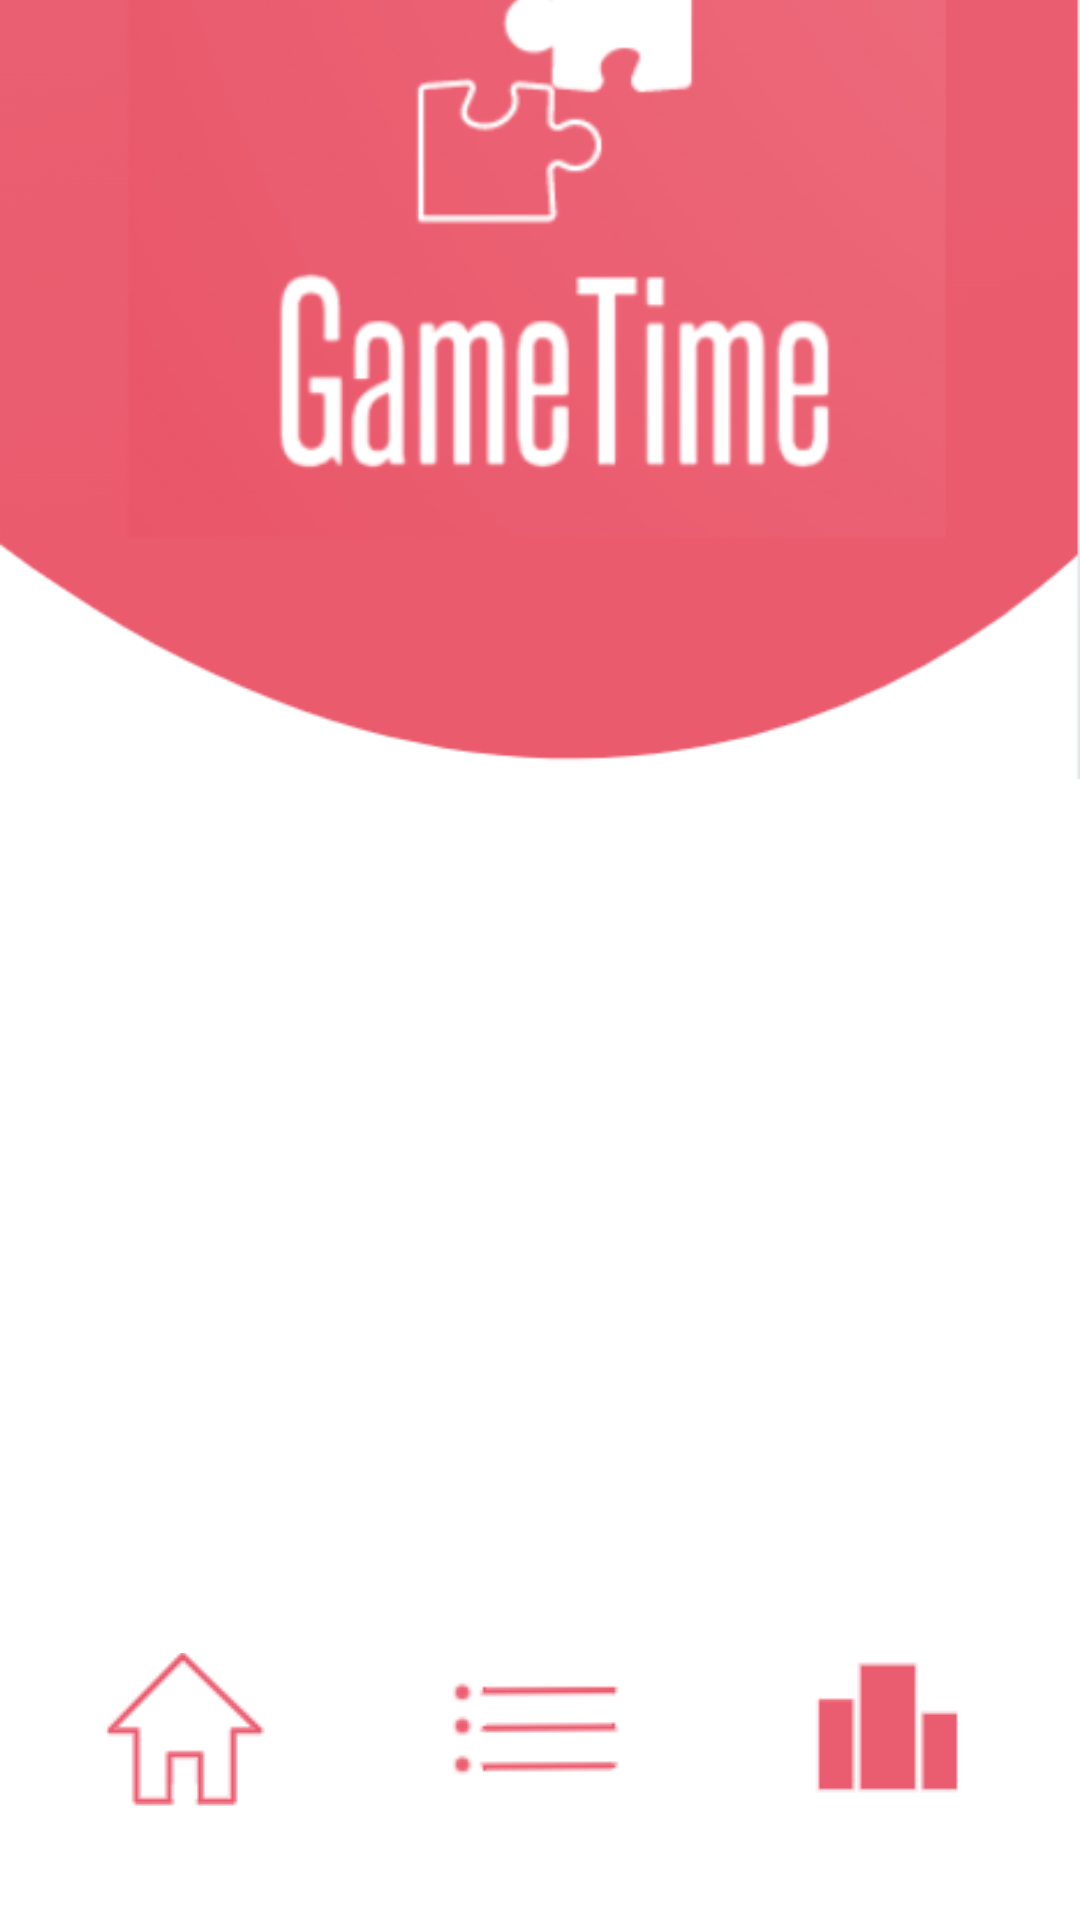

Where icons sit on this 1080x1920 app screen, as (x1, y1, x2, y2):
home: (106, 1653, 265, 1806)
leaderboard: (818, 1663, 958, 1791)
task: (453, 1683, 618, 1774)
